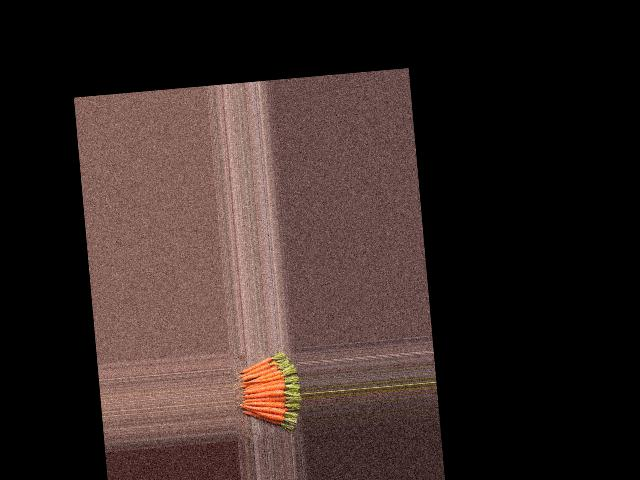carrot: (239, 357, 273, 366)
